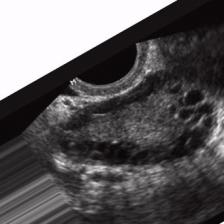pcos: (69, 62, 224, 193)
